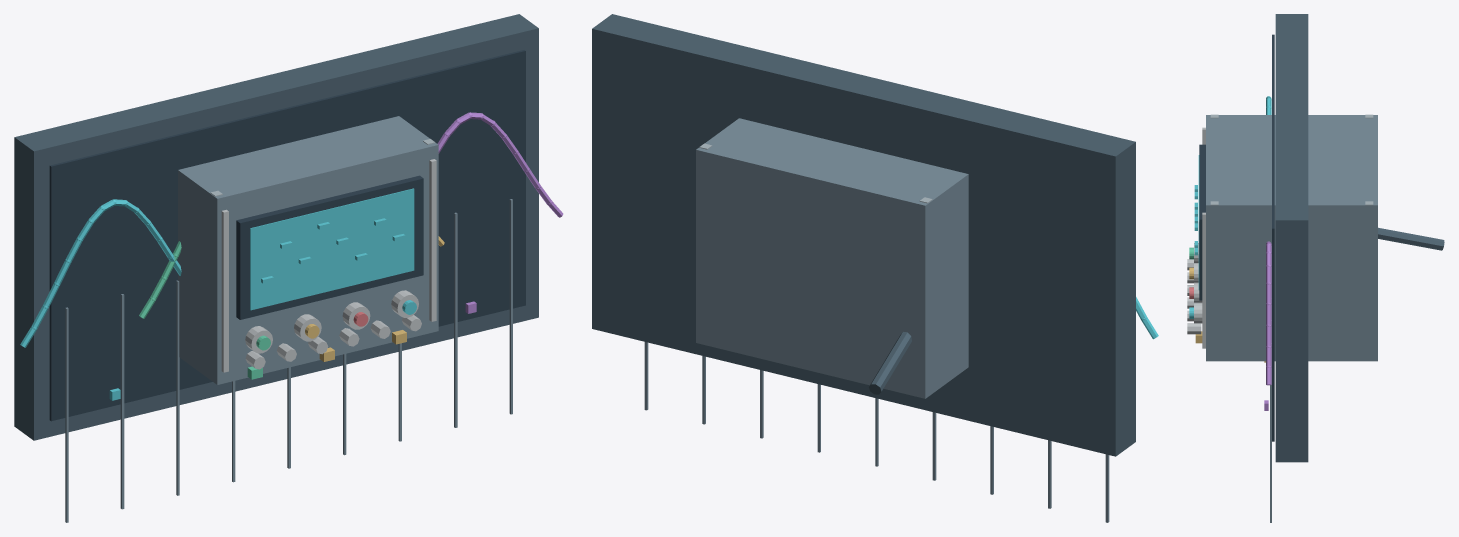
File: 36_L80_DemultiplexerResonanceMonitor.glb
3 views of the same model, side by side, from view 1: azimuth 30°, elevation 25°; view 2: azimuth 150°, elevation 25°; view 3: azimuth 270°, elevation 25° (orthographic). The views are drawn at different scales.
Parts seen in each view (by area): view 1: DemultiplexerResonanceMonitor_Node_0036, DemultiplexerResonanceMonitor_Node_0035, DemultiplexerResonanceMonitor_Node_0000, DemultiplexerResonanceMonitor_Node_0008, DemultiplexerResonanceMonitor_Node_0007, DemultiplexerResonanceMonitor_Node_0005, DemultiplexerResonanceMonitor_Node_0006, DemultiplexerResonanceMonitor_Node_0166, DemultiplexerResonanceMonitor_Node_0173, DemultiplexerResonanceMonitor_Node_0165, DemultiplexerResonanceMonitor_Node_0172, DemultiplexerResonanceMonitor_Node_0167; view 2: DemultiplexerResonanceMonitor_Node_0035, DemultiplexerResonanceMonitor_Node_0000, DemultiplexerResonanceMonitor_Node_0034; view 3: DemultiplexerResonanceMonitor_Node_0000, DemultiplexerResonanceMonitor_Node_0035, DemultiplexerResonanceMonitor_Node_0036, DemultiplexerResonanceMonitor_Node_0007, DemultiplexerResonanceMonitor_Node_0034, DemultiplexerResonanceMonitor_Node_0006, DemultiplexerResonanceMonitor_Node_0173.
Part boxes in pixels (left/top/right/bottom): DemultiplexerResonanceMonitor_Node_0036: left=49, top=50, right=525, bottom=421; DemultiplexerResonanceMonitor_Node_0035: left=14, top=14, right=538, bottom=440; DemultiplexerResonanceMonitor_Node_0000: left=178, top=116, right=438, bottom=384; DemultiplexerResonanceMonitor_Node_0008: left=250, top=188, right=414, bottom=310; DemultiplexerResonanceMonitor_Node_0007: left=236, top=175, right=423, bottom=319; DemultiplexerResonanceMonitor_Node_0005: left=221, top=209, right=228, bottom=372; DemultiplexerResonanceMonitor_Node_0006: left=429, top=159, right=436, bottom=321; DemultiplexerResonanceMonitor_Node_0166: left=120, top=294, right=124, bottom=509; DemultiplexerResonanceMonitor_Node_0173: left=509, top=199, right=512, bottom=414; DemultiplexerResonanceMonitor_Node_0165: left=65, top=307, right=68, bottom=522; DemultiplexerResonanceMonitor_Node_0172: left=454, top=212, right=457, bottom=427; DemultiplexerResonanceMonitor_Node_0167: left=176, top=280, right=179, bottom=495; DemultiplexerResonanceMonitor_Node_0035: left=592, top=14, right=1135, bottom=456; DemultiplexerResonanceMonitor_Node_0000: left=696, top=118, right=968, bottom=398; DemultiplexerResonanceMonitor_Node_0034: left=869, top=332, right=911, bottom=394; DemultiplexerResonanceMonitor_Node_0000: left=1206, top=115, right=1377, bottom=361; DemultiplexerResonanceMonitor_Node_0035: left=1275, top=14, right=1308, bottom=462; DemultiplexerResonanceMonitor_Node_0036: left=1272, top=34, right=1274, bottom=441; DemultiplexerResonanceMonitor_Node_0007: left=1199, top=144, right=1205, bottom=300; DemultiplexerResonanceMonitor_Node_0034: left=1378, top=227, right=1444, bottom=250; DemultiplexerResonanceMonitor_Node_0006: left=1202, top=212, right=1205, bottom=348; DemultiplexerResonanceMonitor_Node_0173: left=1270, top=343, right=1271, bottom=522.
Bounding box in the file's own units: 2.25 × 1.5 × 1.11.
